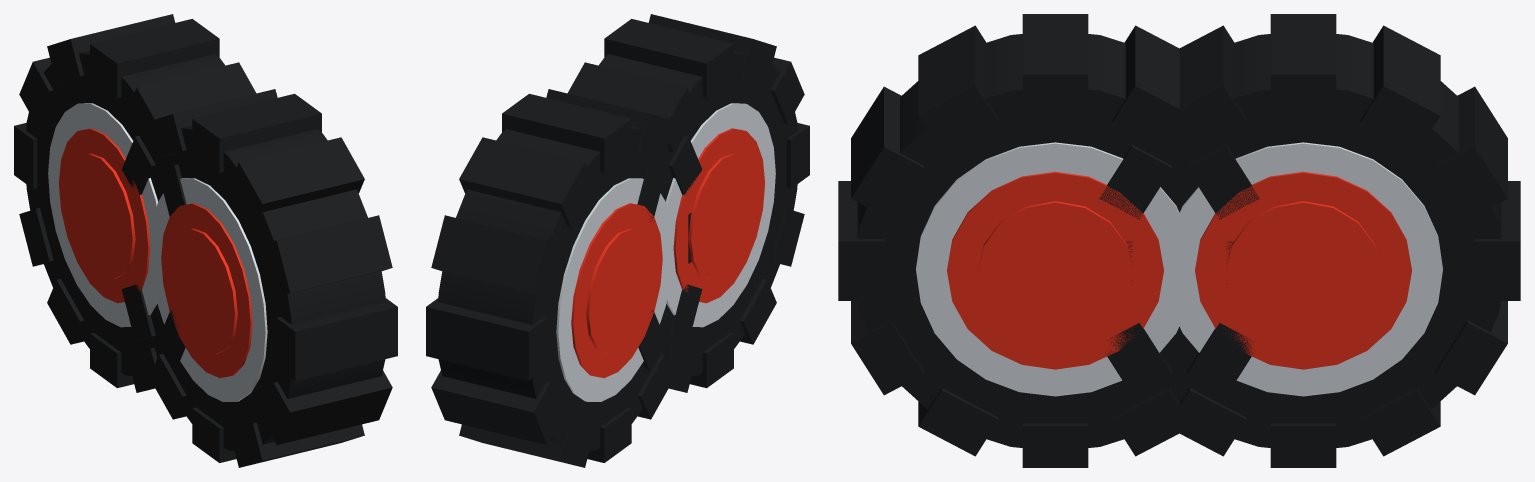
File: A047-LP37_BUSKID_SUNNY-rl-01-of-01.glb
The picture shows the model from 3 angles, left to right: view 1: azimuth 30°, elevation 25°; view 2: azimuth 150°, elevation 25°; view 3: azimuth 270°, elevation 25°; orthographic projection. The views are drawn at different scales.
Parts seen in each view (by area): view 1: LP37_BUSKID_SUNNY_Wheel_RL_Part_01; view 2: LP37_BUSKID_SUNNY_Wheel_RL_Part_01; view 3: LP37_BUSKID_SUNNY_Wheel_RL_Part_01.
Boxes of the visible parts, bbox=[...] form: LP37_BUSKID_SUNNY_Wheel_RL_Part_01: bbox=[14, 14, 397, 467]; LP37_BUSKID_SUNNY_Wheel_RL_Part_01: bbox=[426, 14, 809, 467]; LP37_BUSKID_SUNNY_Wheel_RL_Part_01: bbox=[838, 14, 1520, 467].
Size of the model in its own units: 0.2216 by 0.6364 by 1.
